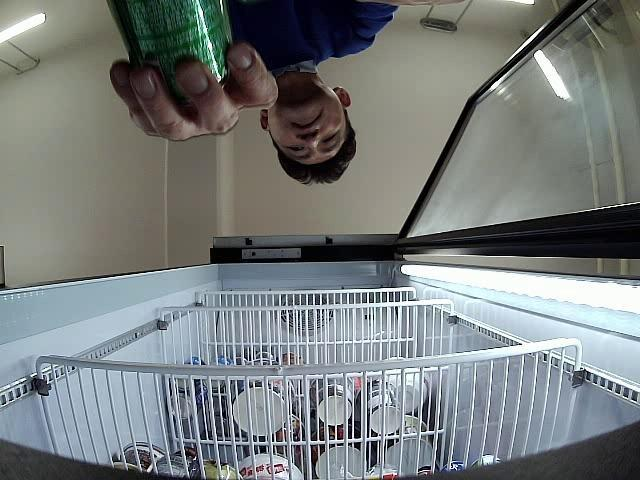12_chilsungCider: (106, 0, 238, 112)
